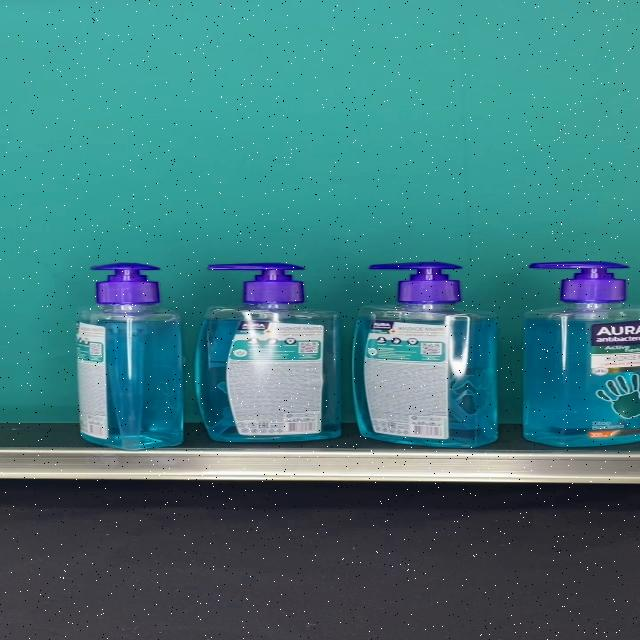Bottle: (352, 262, 499, 448), (196, 262, 341, 444), (522, 261, 640, 447), (78, 262, 184, 451)
Cap: (530, 262, 630, 304), (208, 262, 306, 304), (370, 262, 464, 304), (92, 262, 163, 304)
